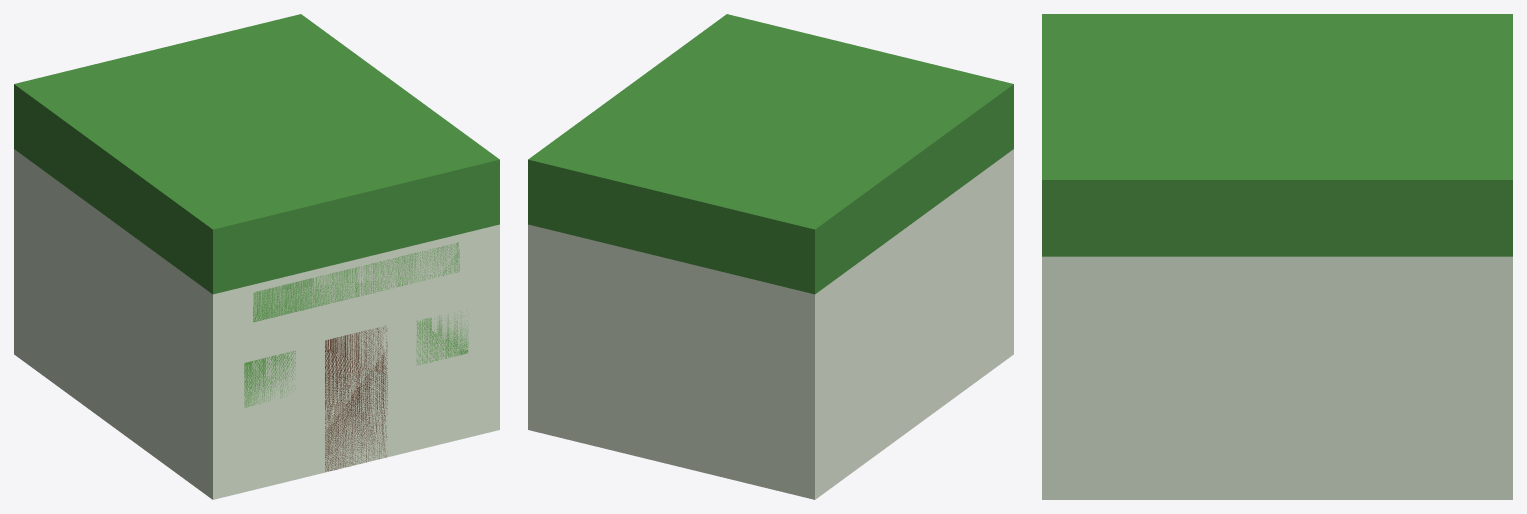
File: gedung_tani.fbx
3 renders of one model, left to right at view 1: azimuth 30°, elevation 25°; view 2: azimuth 150°, elevation 25°; view 3: azimuth 270°, elevation 25°, orthographic. The views are drawn at different scales.
Parts seen in each view (by area): view 1: gedung_tani; view 2: gedung_tani; view 3: gedung_tani.
Boxes of the visible parts, x1=… form: gedung_tani: x1=14, y1=14, x2=499, y2=499; gedung_tani: x1=528, y1=14, x2=1013, y2=499; gedung_tani: x1=1042, y1=14, x2=1512, y2=499.
Bounding box in the file's own units: 500 × 450 × 600.
Materials: 1 (1 with a texture image).
